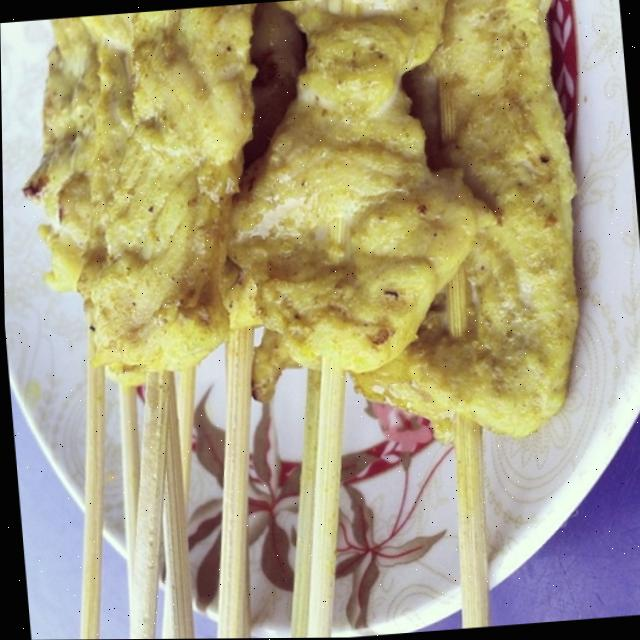牛肉菜式: (0, 6, 635, 637)
